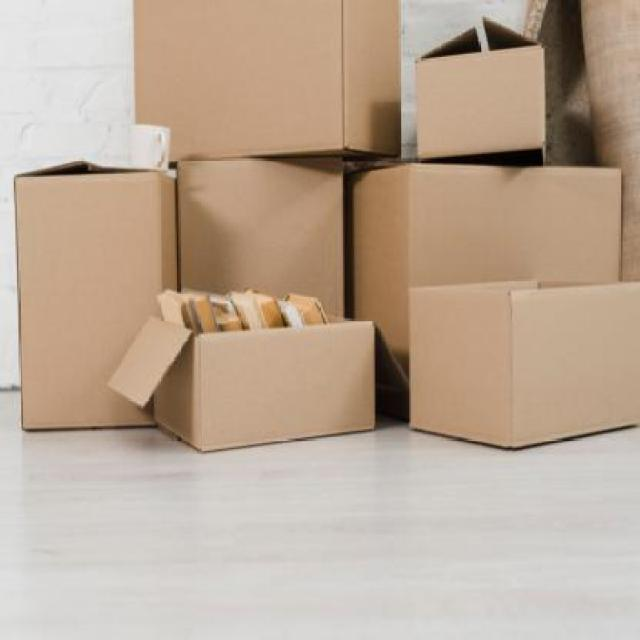box: (344, 159, 624, 397), (134, 2, 402, 175), (15, 155, 174, 434), (413, 274, 640, 448), (128, 310, 382, 450), (177, 156, 348, 322), (417, 26, 552, 168)
